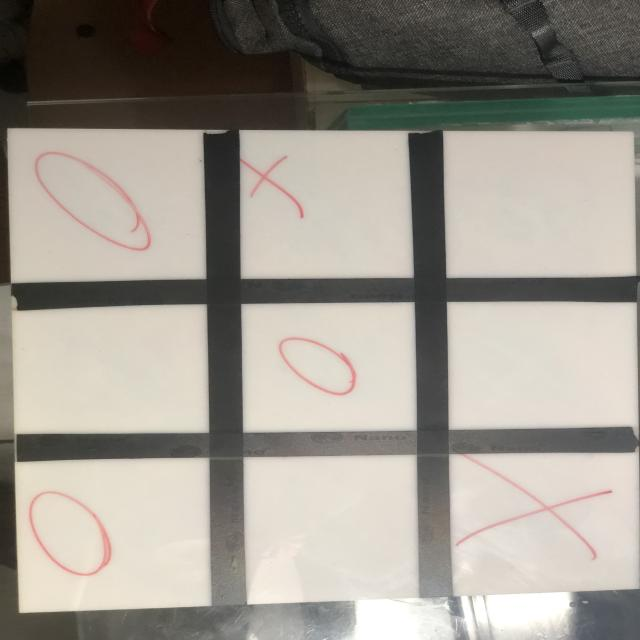null: (441, 132, 636, 278), (16, 303, 208, 438), (244, 459, 421, 600), (448, 301, 640, 430)
o: (24, 149, 160, 254), (27, 488, 121, 582), (275, 332, 361, 401)
table: (9, 120, 640, 612)
x: (459, 457, 613, 564), (241, 153, 312, 219)
